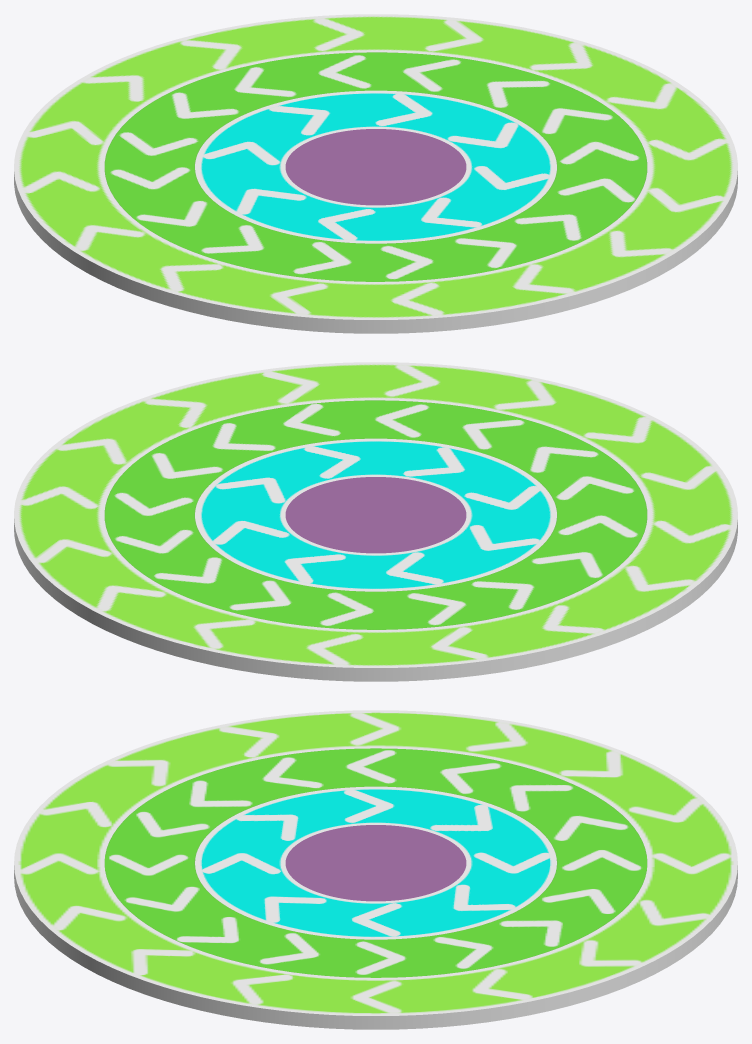
Rendered from SpinningGround.fbx.
The picture shows the model from 3 angles, top to bottom: view 1: azimuth 30°, elevation 25°; view 2: azimuth 150°, elevation 25°; view 3: azimuth 270°, elevation 25°; orthographic projection.
Visible parts, largest first — view 1: OuterRing, MiddleRing, InnerRing, MIddleGround1; view 2: OuterRing, MiddleRing, InnerRing, MIddleGround1; view 3: OuterRing, MiddleRing, InnerRing, MIddleGround1.
Part boxes in pixels (x1,y1,x2,y2): OuterRing: (14,14,737,333); MiddleRing: (104,52,647,281); InnerRing: (195,90,556,243); MIddleGround1: (285,129,466,205); OuterRing: (14,362,737,681); MiddleRing: (104,400,647,629); InnerRing: (195,438,556,591); MIddleGround1: (285,477,466,553); OuterRing: (14,710,737,1029); MiddleRing: (104,748,647,977); InnerRing: (195,786,556,939); MIddleGround1: (285,825,466,901).
Bounding box in the file's own units: 24 × 0.5 × 24.
